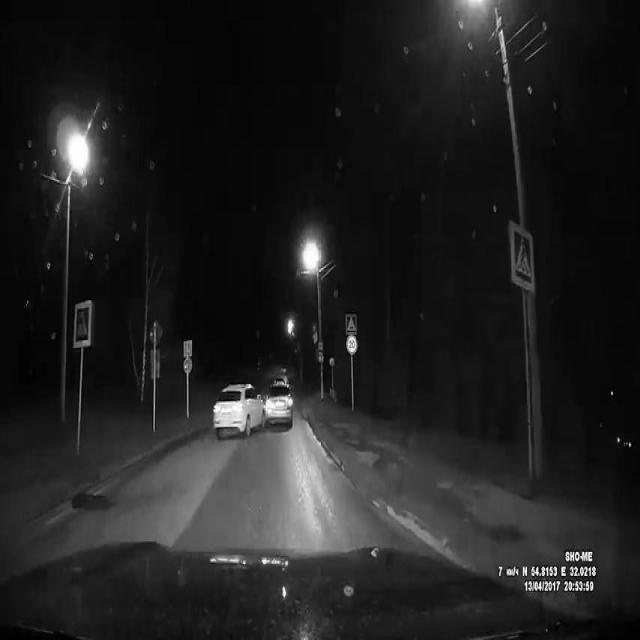severe: (210, 369, 296, 444)
